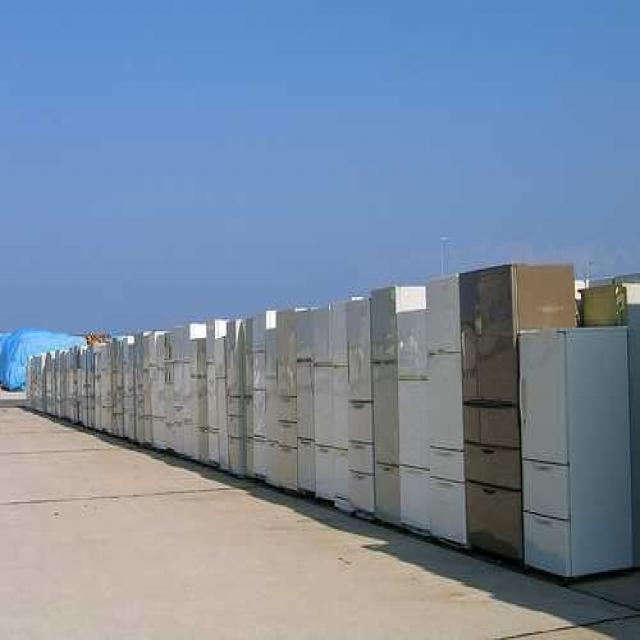refrigerator: (519, 324, 636, 577), (426, 273, 464, 550), (396, 312, 433, 535), (462, 263, 518, 402), (370, 286, 403, 520), (347, 297, 375, 526), (331, 299, 352, 502), (312, 309, 334, 499), (515, 265, 575, 333), (278, 311, 298, 485), (296, 310, 315, 490), (266, 330, 282, 484), (254, 307, 268, 480), (580, 285, 630, 327)
